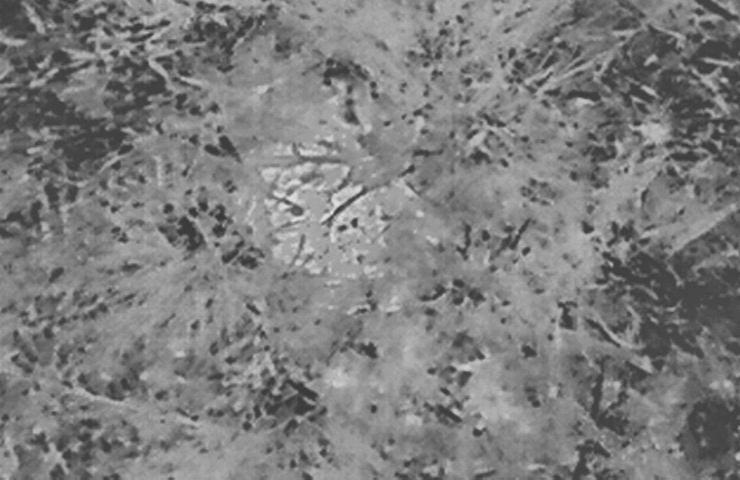landmines: (249, 134, 404, 287)
